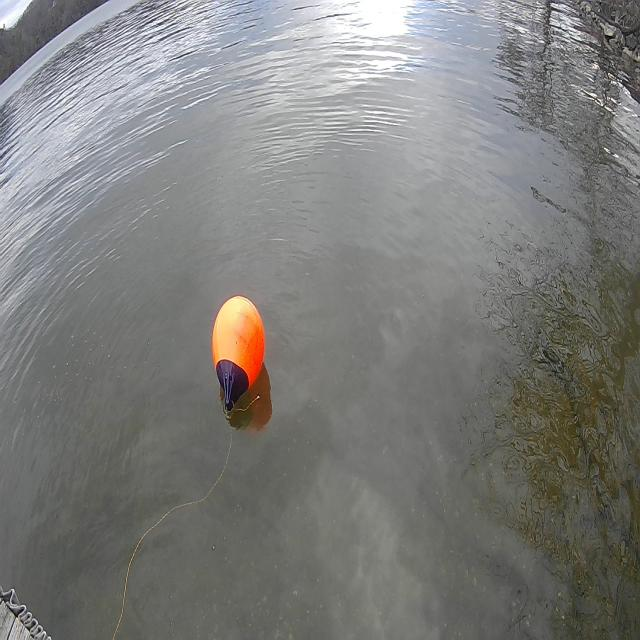Buoy: (210, 289, 270, 430)
